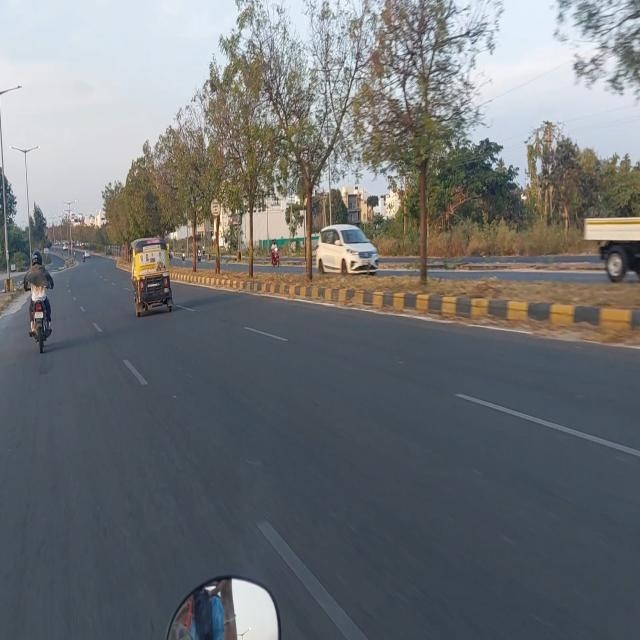bien_nguy_hiem: (210, 197, 221, 217)
